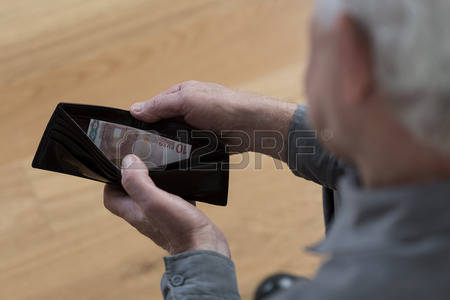monedero: (30, 101, 231, 210)
